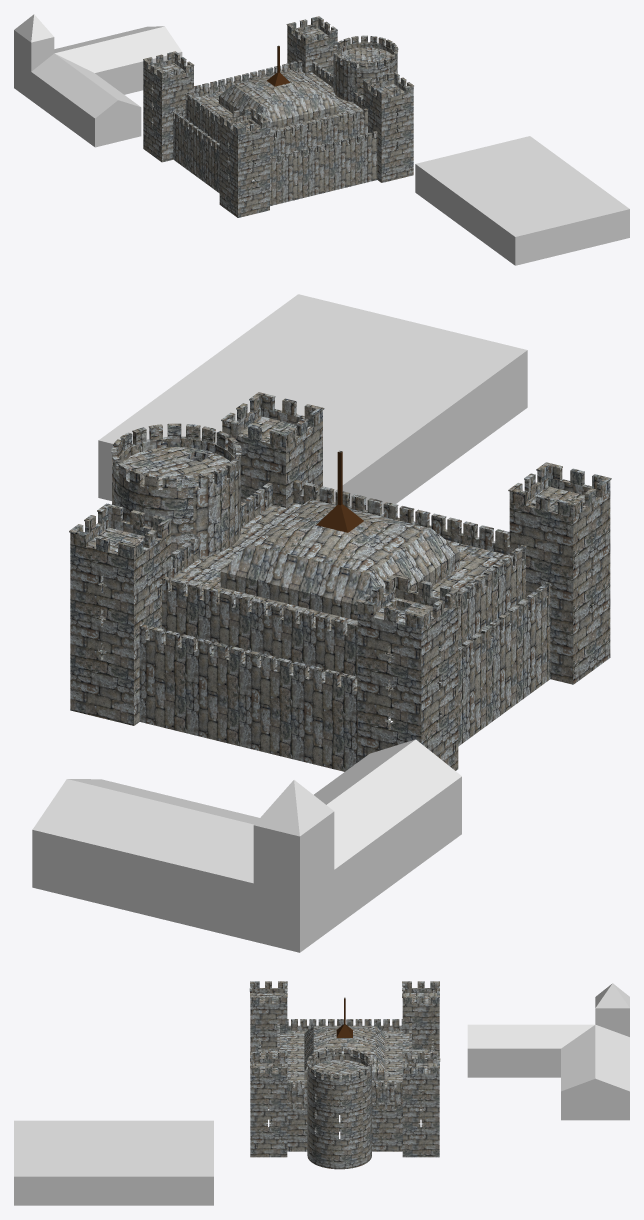
The model's file is keep_church_court_temp.fbx.
3 renders of one model, top to bottom at view 1: azimuth 30°, elevation 25°; view 2: azimuth 150°, elevation 25°; view 3: azimuth 270°, elevation 25°, orthographic. The views are drawn at different scales.
Parts seen in each view (by area): view 1: Castle, Courthouse, Church; view 2: Castle, Church, Courthouse; view 3: Castle, Courthouse, Church.
Boxes of the visible parts, x1,y1,x2,y2 form: Castle: (143,16,413,217); Courthouse: (415,136,629,265); Church: (14,14,182,147); Castle: (69,392,611,771); Church: (32,739,461,952); Courthouse: (98,294,527,513); Castle: (249,981,440,1169); Courthouse: (14,1120,213,1205); Church: (467,983,629,1120).
Bounding box in the file's own units: 7727 × 2790 × 13349.
